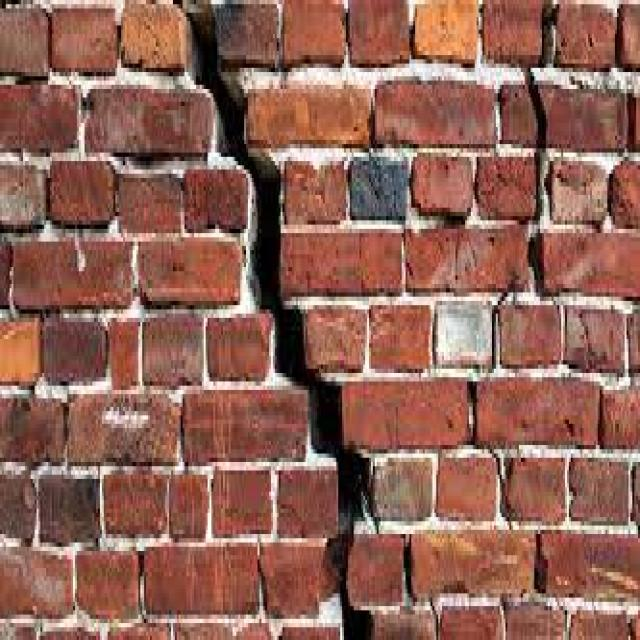Crack: (188, 0, 371, 636), (486, 0, 550, 365), (463, 378, 548, 594), (400, 530, 438, 636)
